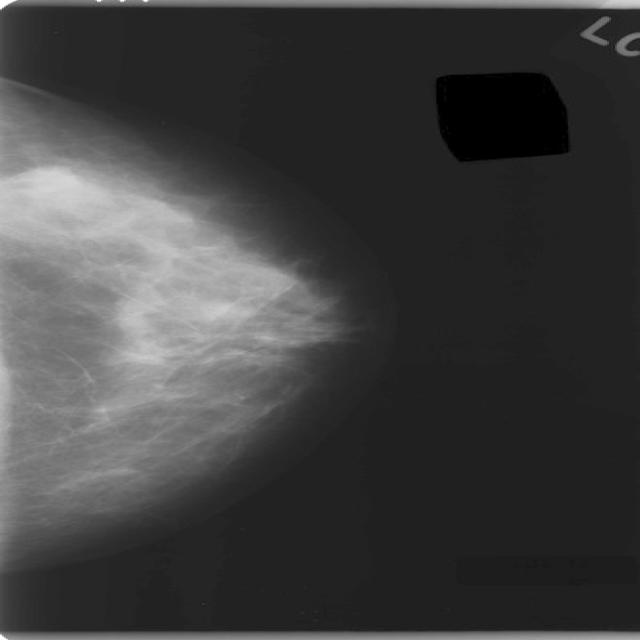tumour: (14, 163, 86, 210)
